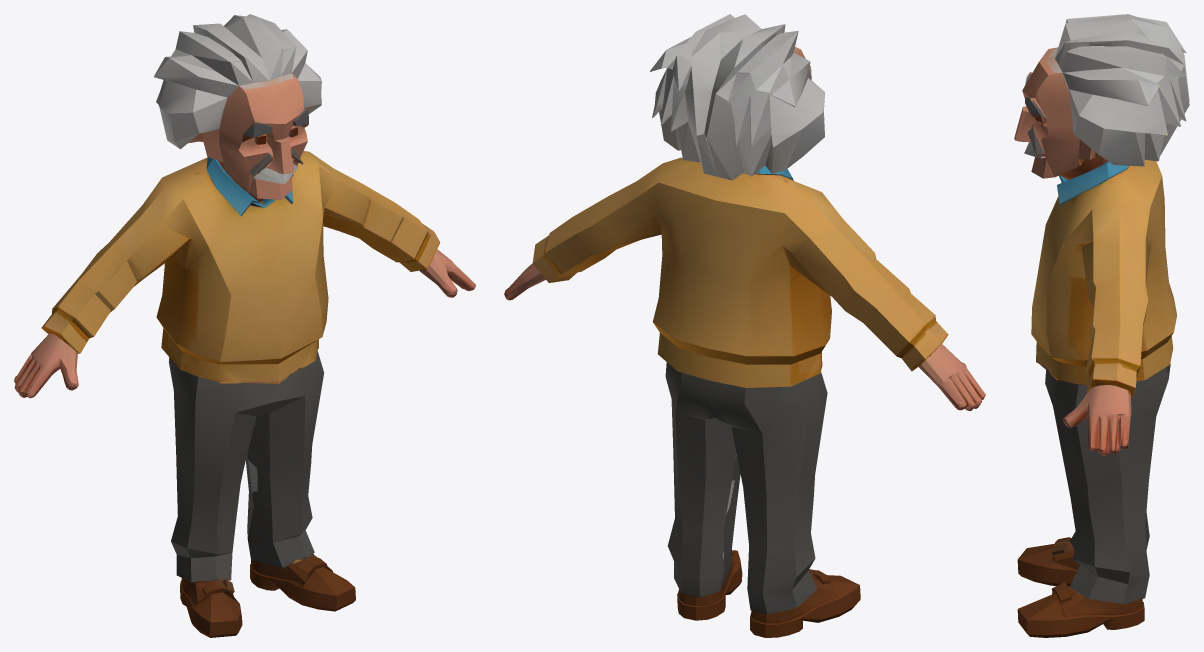
File: einstein.glb
3 renders of one model, left to right at view 1: azimuth 30°, elevation 25°; view 2: azimuth 150°, elevation 25°; view 3: azimuth 270°, elevation 25°, orthographic. The views are drawn at different scales.
Visible parts, largest first — view 1: texture_v128_online; view 2: texture_v128_online; view 3: texture_v128_online.
Part boxes in pixels (bbox=[...]): texture_v128_online: bbox=[14, 14, 475, 637]; texture_v128_online: bbox=[504, 14, 985, 637]; texture_v128_online: bbox=[1014, 14, 1189, 637].
Size of the model in its own units: 1.6 by 1.9 by 0.5234.
Materials: 1 (1 with a texture image).
